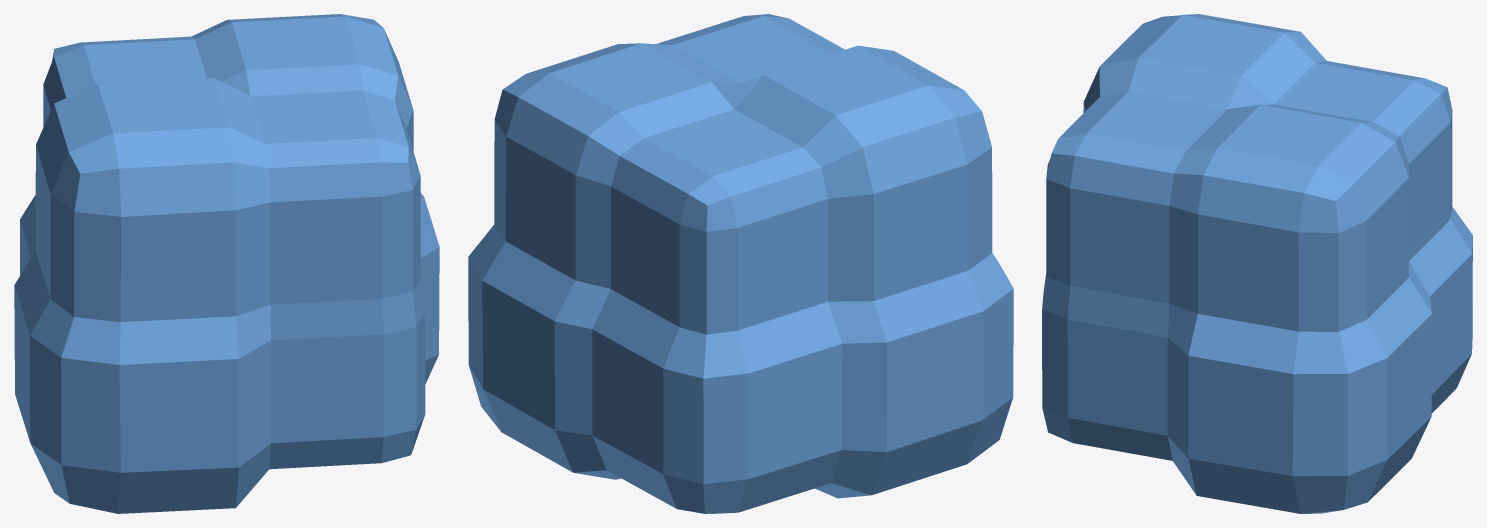
Rendered from Rare.fbx.
3 renders of one model, left to right at view 1: azimuth 30°, elevation 25°; view 2: azimuth 150°, elevation 25°; view 3: azimuth 270°, elevation 25°, orthographic. The views are drawn at different scales.
Visible parts, largest first — view 1: Cube.001; view 2: Cube.001; view 3: Cube.001.
Part boxes in pixels (x1=…): Cube.001: x1=14, y1=14, x2=439, y2=513; Cube.001: x1=468, y1=14, x2=1013, y2=513; Cube.001: x1=1042, y1=14, x2=1472, y2=513.
Bounding box in the file's own units: 76.59 × 63.35 × 68.33.
